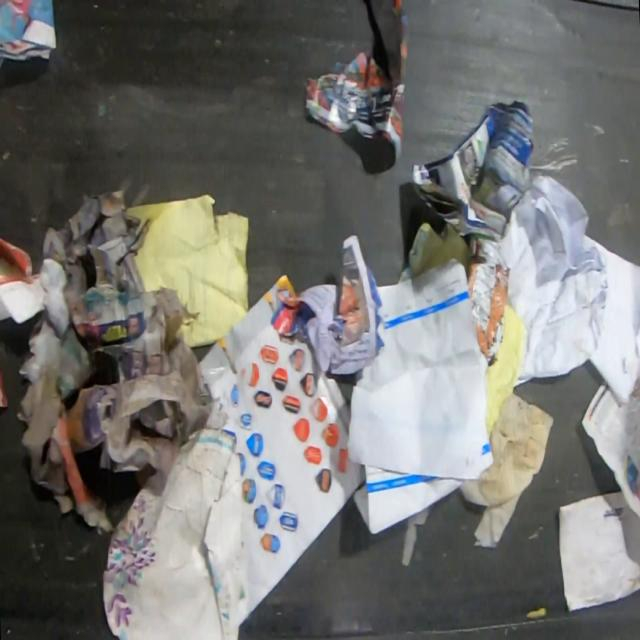cardboard: (101, 428, 244, 640), (14, 365, 116, 537), (485, 303, 526, 441), (396, 220, 470, 284)
soft_plastic: (94, 339, 214, 476)
